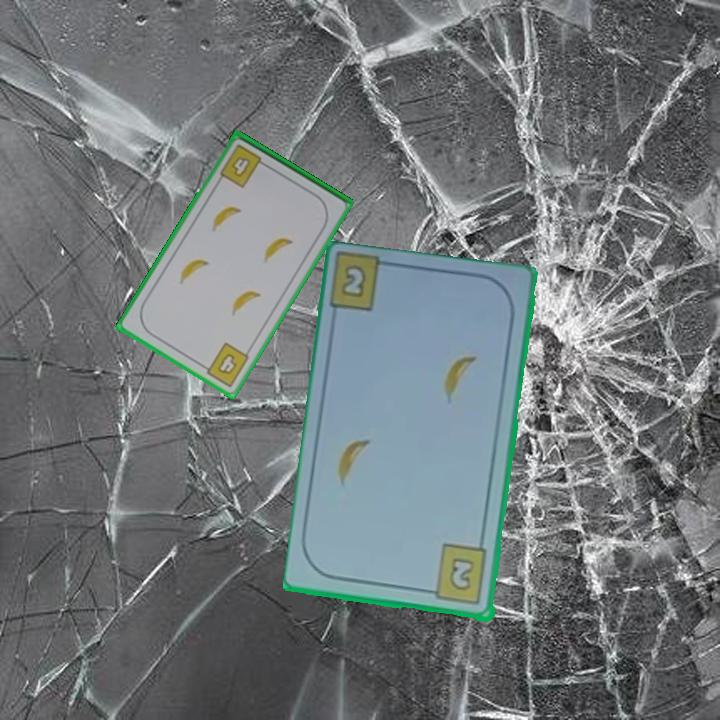2b: (423, 542, 491, 608), (341, 265, 367, 298)
4b: (197, 339, 252, 390), (216, 141, 270, 191)
